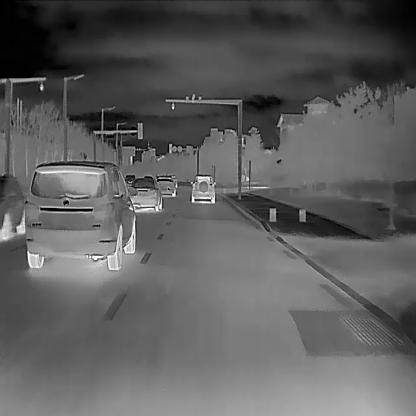car: (24, 158, 136, 270), (0, 170, 25, 242), (125, 175, 162, 211), (189, 173, 215, 202), (155, 174, 175, 197), (124, 172, 135, 186), (168, 173, 178, 188)
